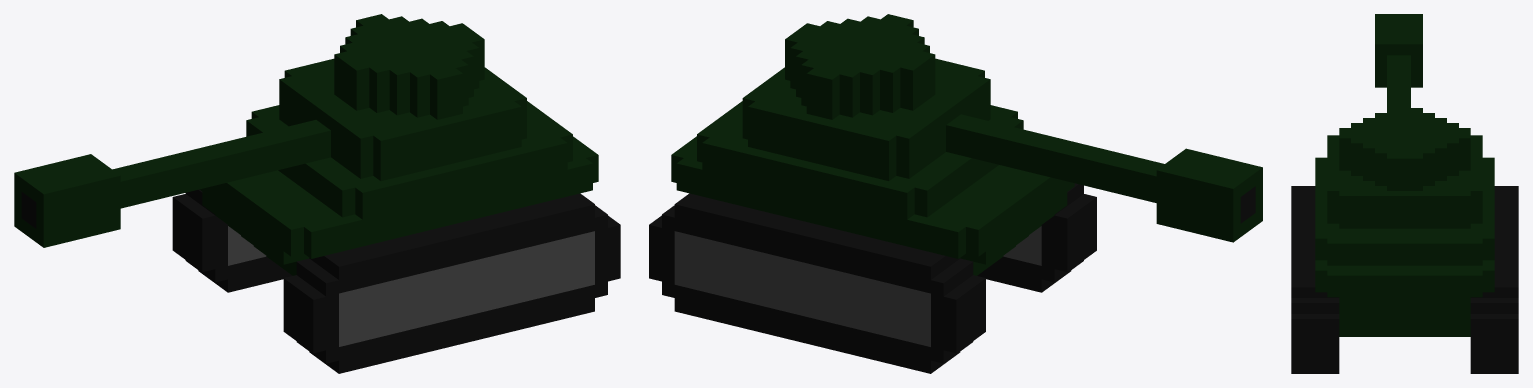
Rendered from tank.fbx.
The picture shows the model from 3 angles, left to right: view 1: azimuth 30°, elevation 25°; view 2: azimuth 150°, elevation 25°; view 3: azimuth 270°, elevation 25°; orthographic projection. The views are drawn at different scales.
Parts seen in each view (by area): view 1: Cube.001; view 2: Cube.001; view 3: Cube.001.
Part boxes in pixels (left/top/right/bottom): Cube.001: left=14, top=14, right=620, bottom=373; Cube.001: left=649, top=14, right=1262, bottom=373; Cube.001: left=1291, top=14, right=1518, bottom=373.
Size of the model in its own units: 4100 by 1800 by 1900.
